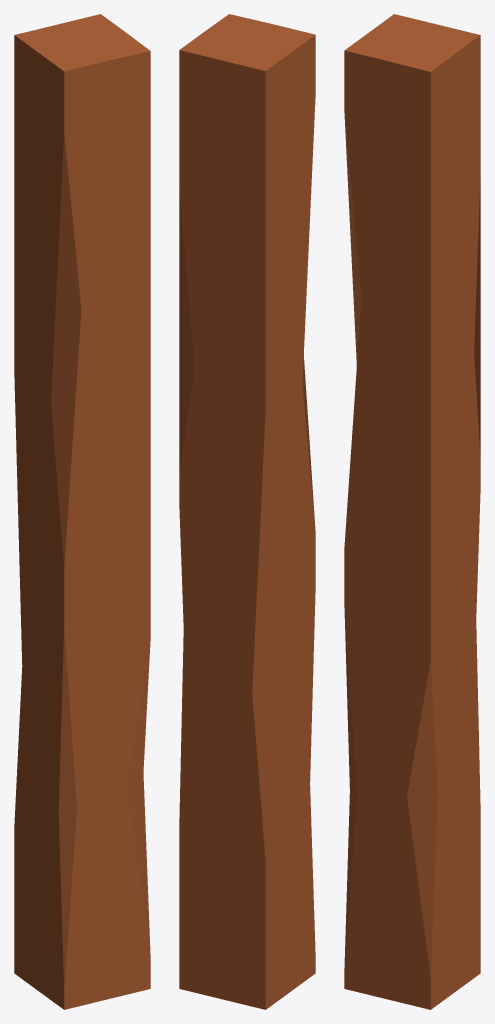
Rendered from pillar.fbx.
3 renders of one model, left to right at view 1: azimuth 30°, elevation 25°; view 2: azimuth 150°, elevation 25°; view 3: azimuth 330°, elevation 25°, orthographic.
Visible parts, largest first — view 1: 立方体.004; view 2: 立方体.004; view 3: 立方体.004.
Boxes of the visible parts, x1,y1,x2,y2 form: 立方体.004: [14, 14, 150, 1009]; 立方体.004: [179, 14, 315, 1009]; 立方体.004: [344, 14, 480, 1009].
Bounding box in the file's own units: 179 × 179 × 1857.
